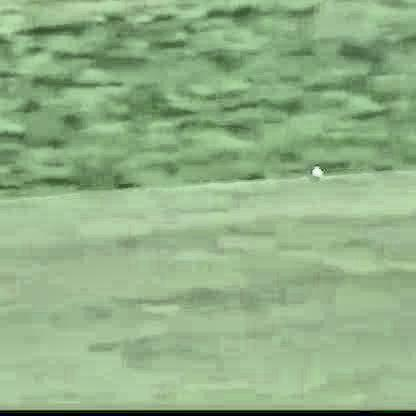golfball: (306, 165, 322, 176)
